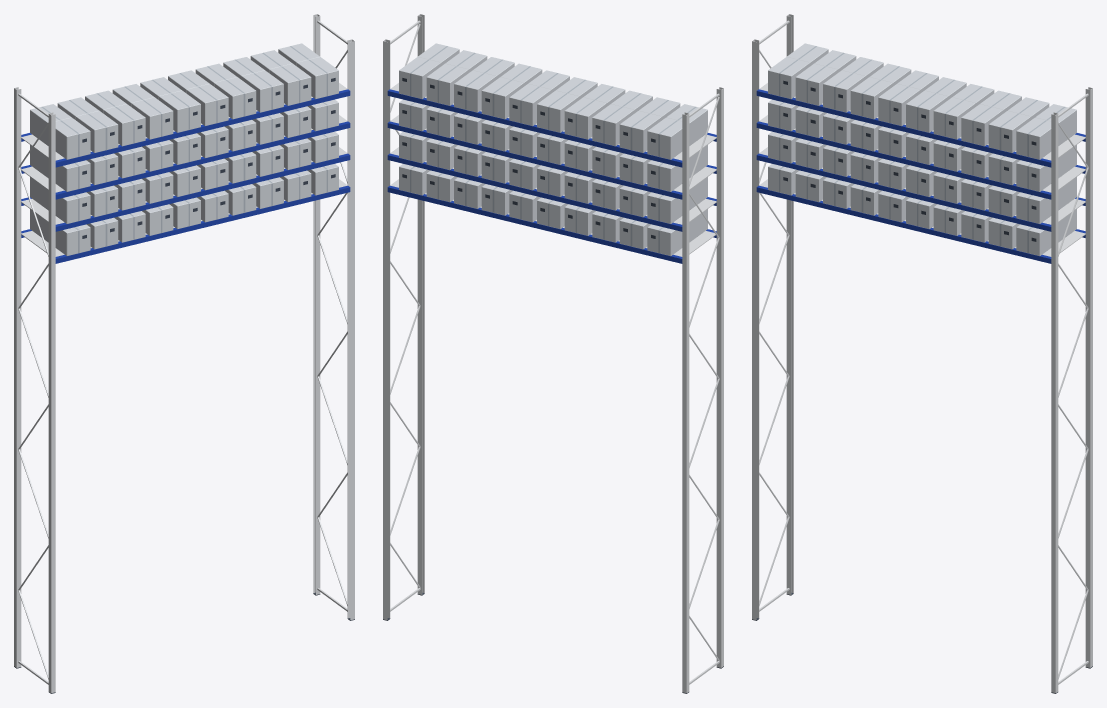
File: SM_MPR_CADRack_F16_W192_Passage.fbx
3 views of the same model, side by side, from view 1: azimuth 30°, elevation 25°; view 2: azimuth 150°, elevation 25°; view 3: azimuth 330°, elevation 25° (orthographic).
Visible parts, largest first — view 1: SM_MPR_CADRack_F16_W192_Passage; view 2: SM_MPR_CADRack_F16_W192_Passage; view 3: SM_MPR_CADRack_F16_W192_Passage.
Boxes of the visible parts, x1,y1,x2,y2 form: SM_MPR_CADRack_F16_W192_Passage: [14, 14, 354, 693]; SM_MPR_CADRack_F16_W192_Passage: [383, 14, 723, 693]; SM_MPR_CADRack_F16_W192_Passage: [752, 14, 1092, 693].
Bounding box in the file's own units: 503 × 107 × 915.
